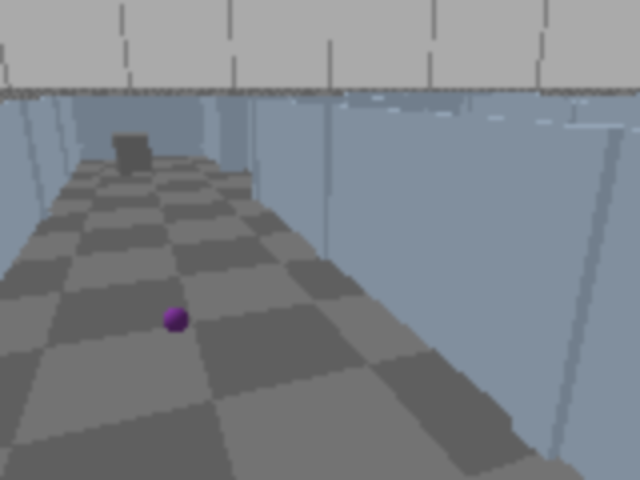obstacle: (112, 132, 153, 175)
puck: (159, 301, 194, 340)
